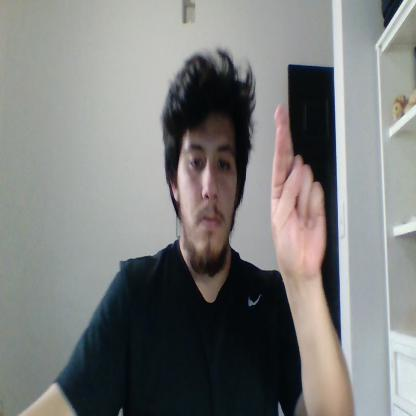R: (271, 105, 325, 276)
